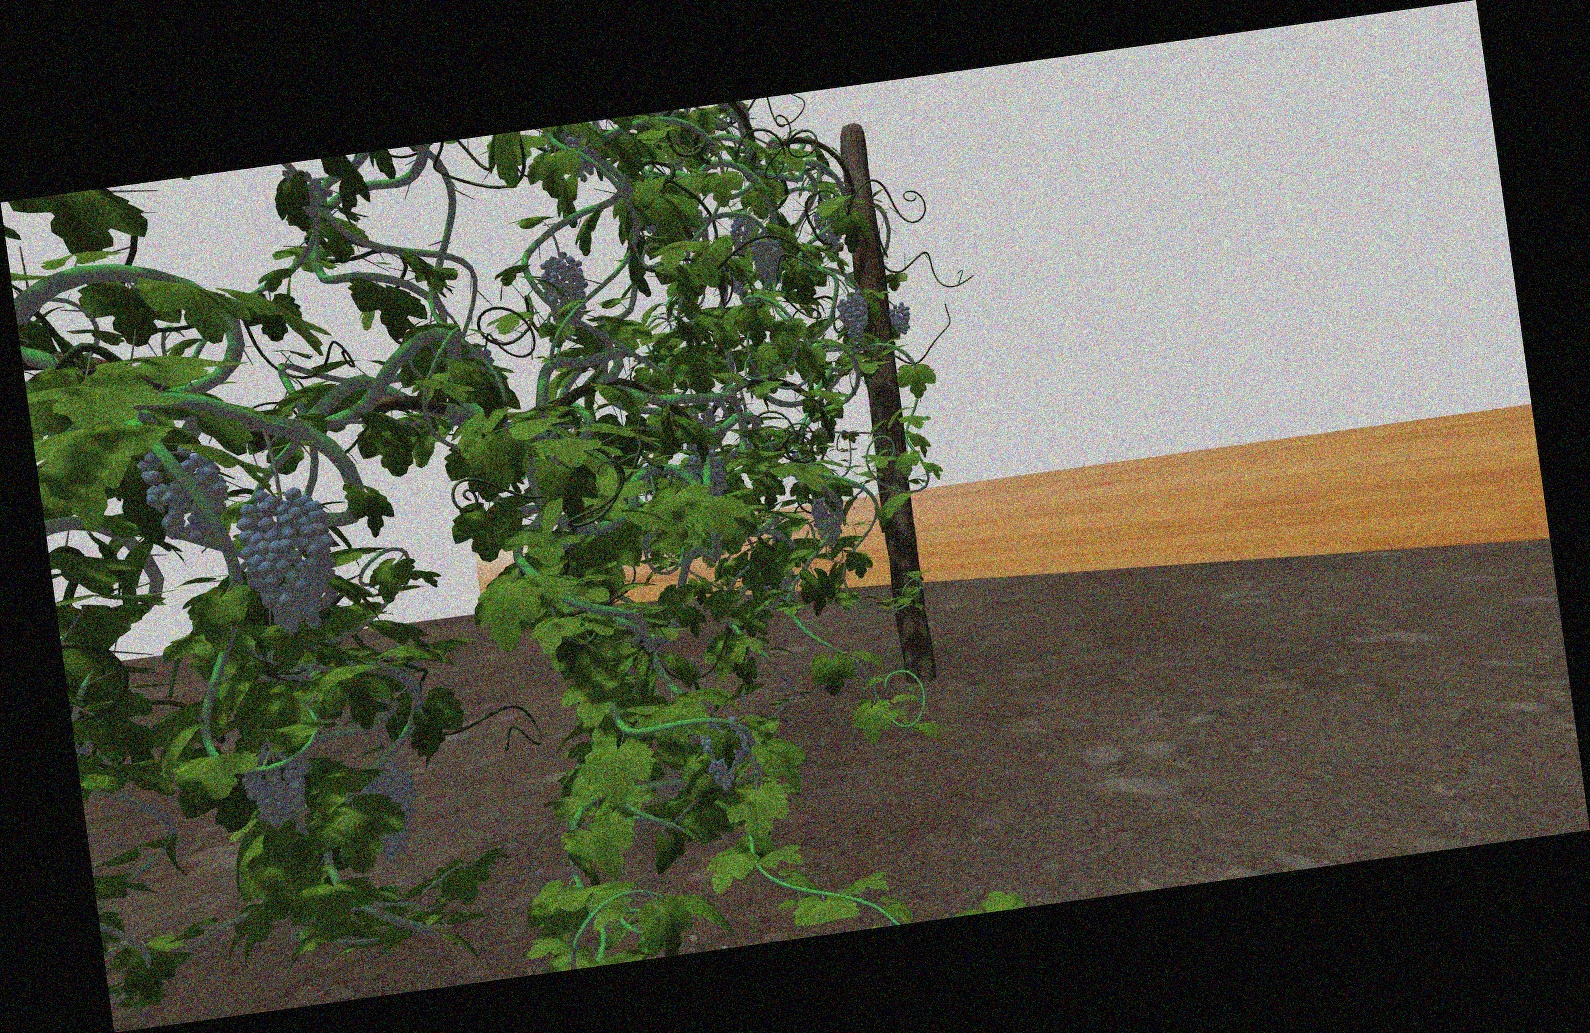grape: (238, 490, 336, 636), (143, 446, 225, 550), (360, 768, 422, 870), (245, 752, 316, 832), (703, 722, 750, 791), (540, 252, 588, 317), (836, 291, 870, 343), (810, 497, 844, 546), (753, 239, 786, 283), (729, 216, 758, 254), (888, 301, 913, 335)
